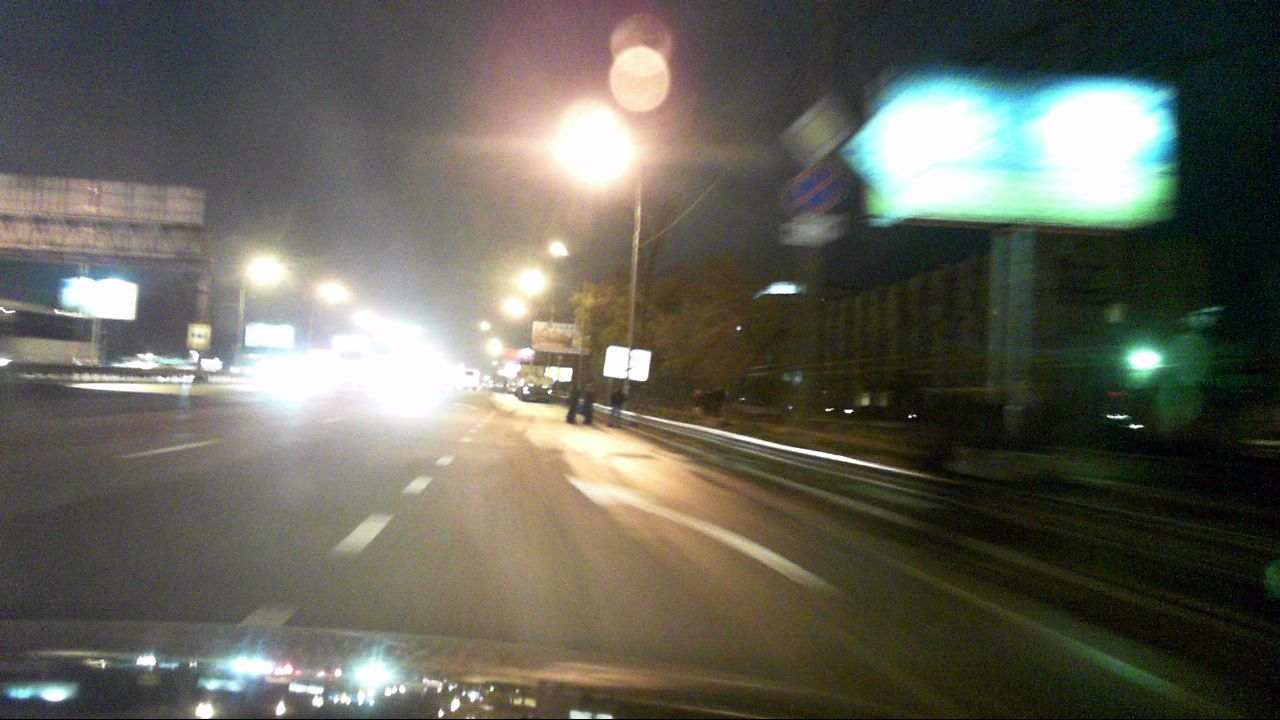No Parking: (792, 166, 842, 215)
